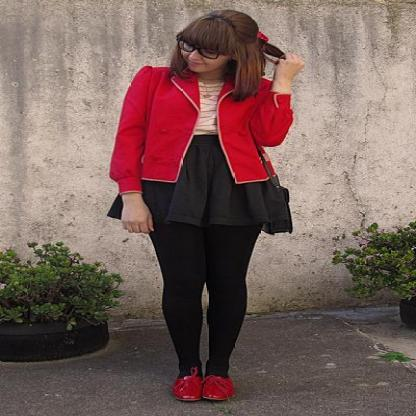jacket: (109, 66, 292, 191)
shirt: (187, 81, 223, 141)
shoe: (173, 374, 232, 399)
skirt: (107, 132, 292, 240)
